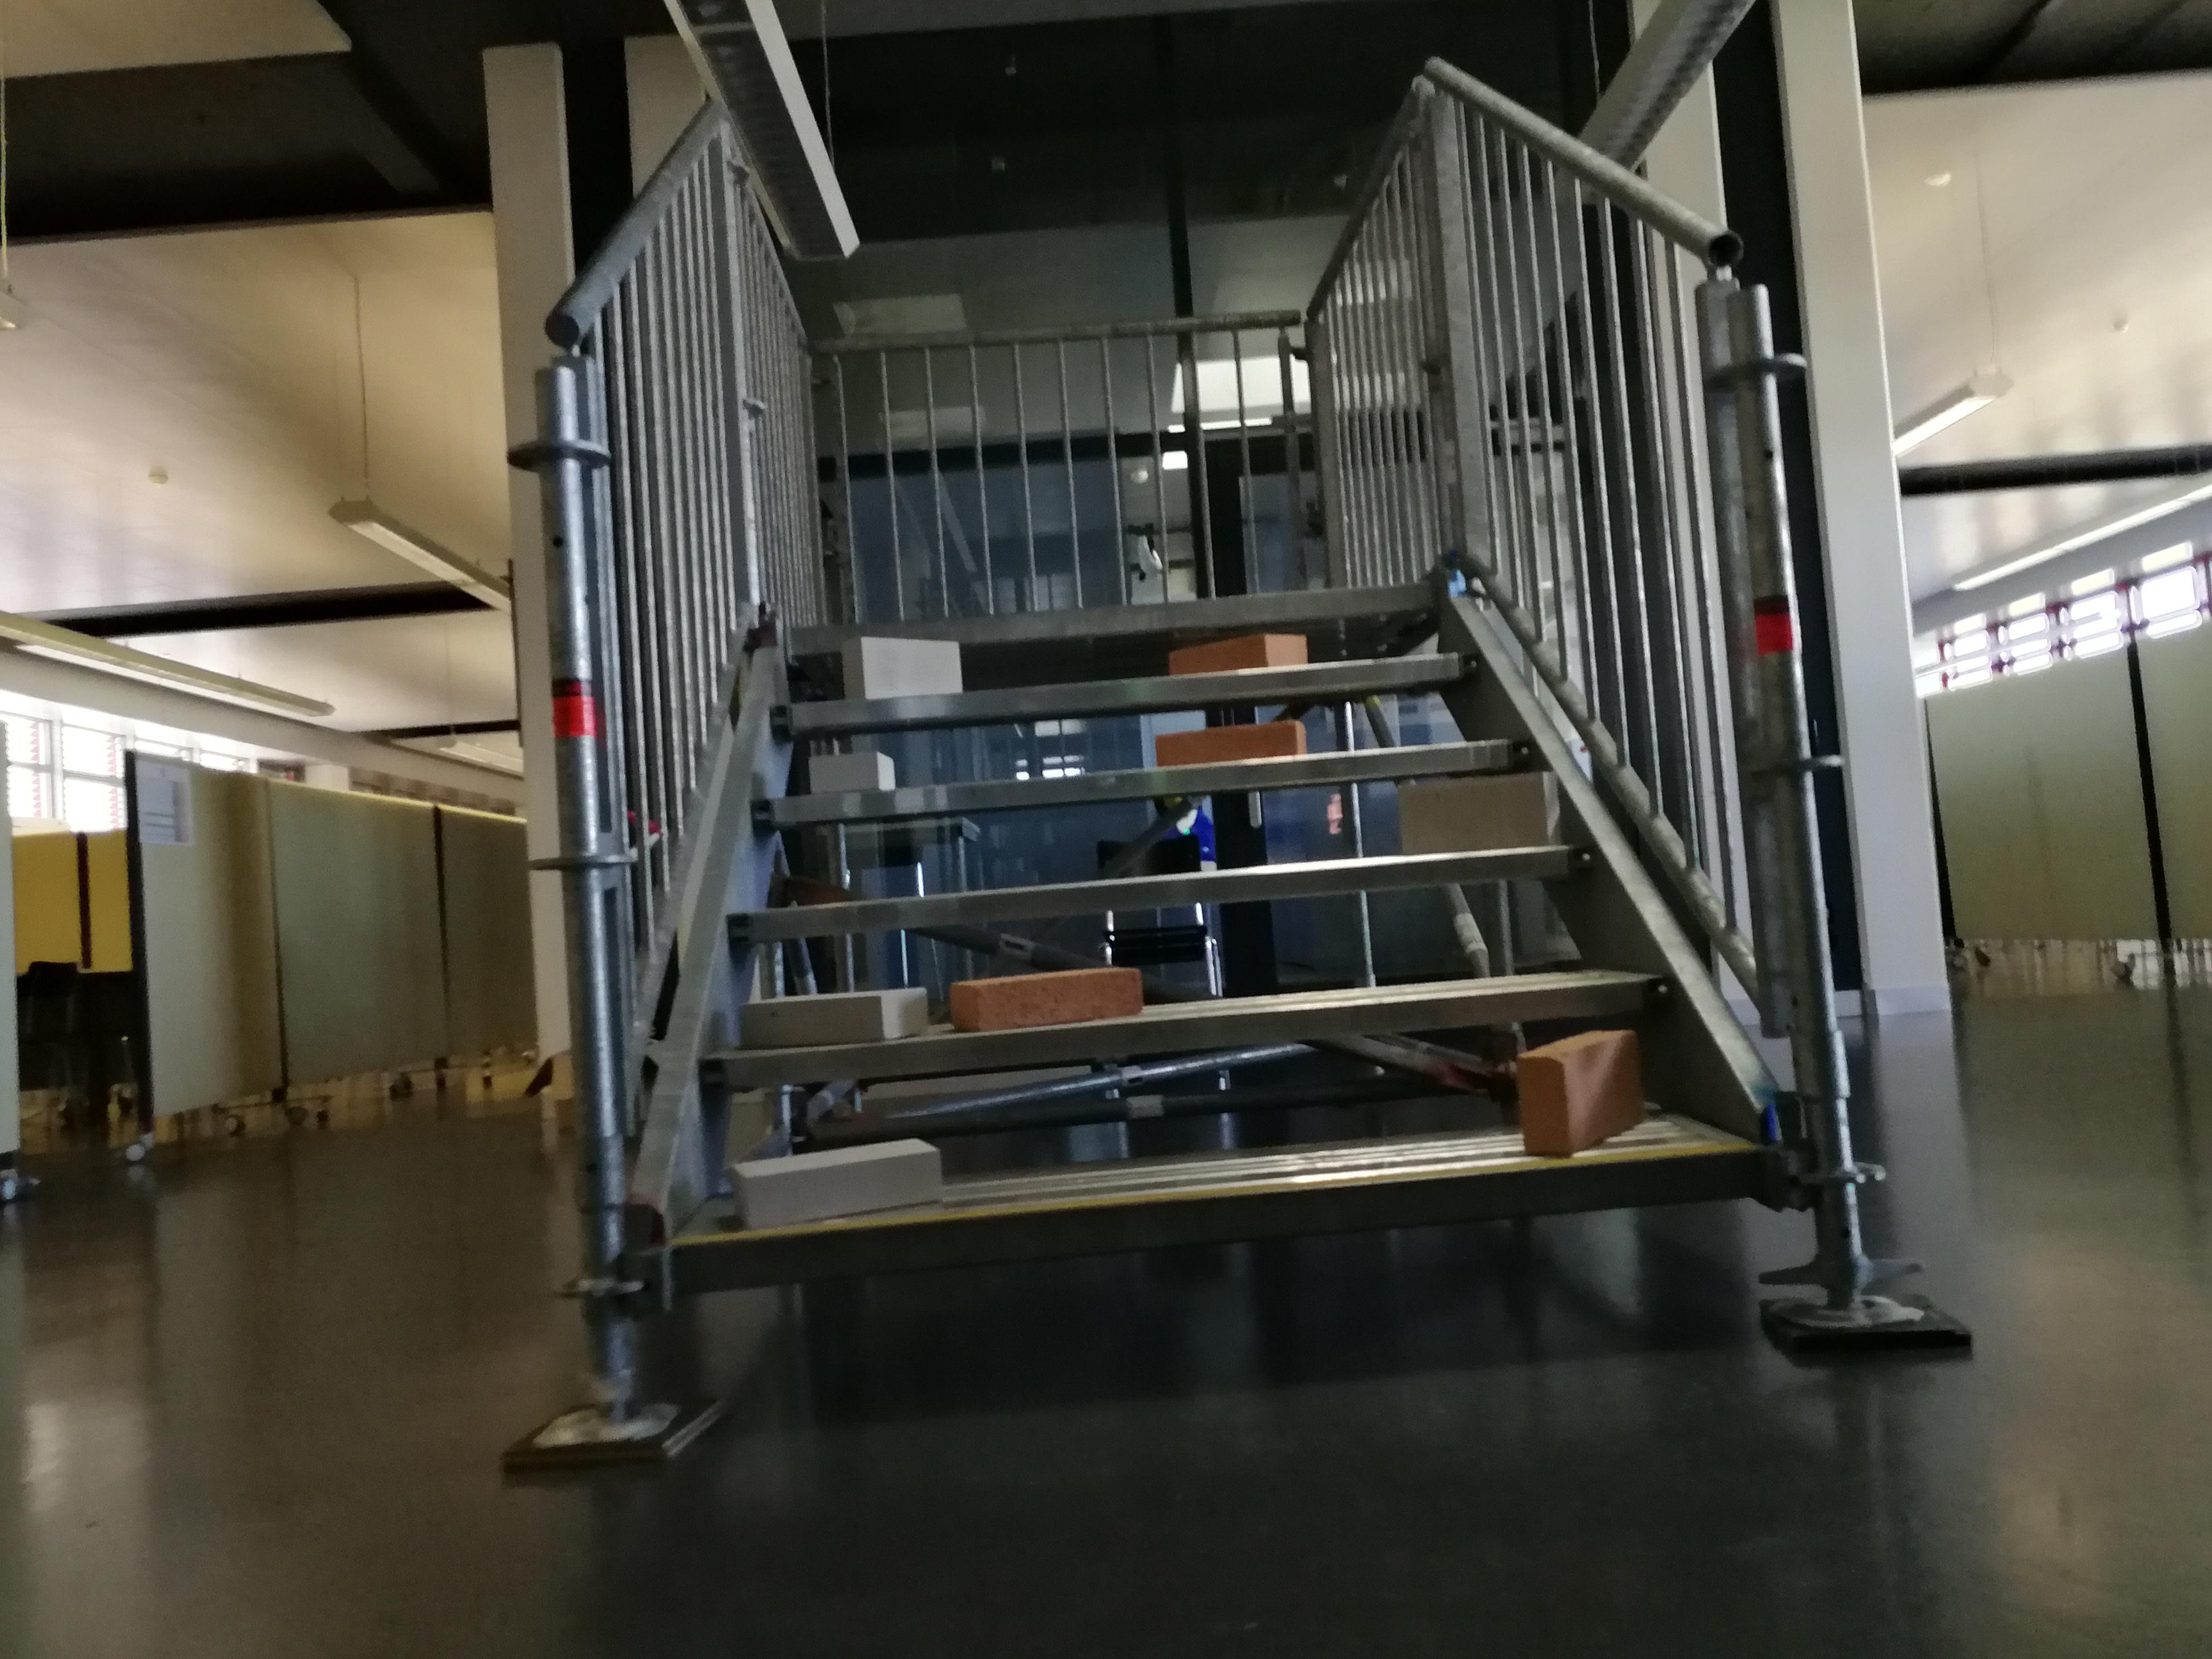brick: (735, 1134, 939, 1230), (1517, 1032, 1641, 1154), (949, 969, 1141, 1035), (1399, 777, 1559, 852), (744, 986, 927, 1042), (1155, 721, 1303, 767), (845, 636, 958, 694), (1169, 633, 1306, 674)
edge: (671, 1148, 1749, 1286), (697, 974, 1672, 1086), (725, 845, 1594, 939), (751, 741, 1533, 823), (766, 653, 1487, 727), (784, 584, 1435, 650)
stairs: (505, 89, 1973, 1471)
steps: (657, 572, 1775, 1316)
